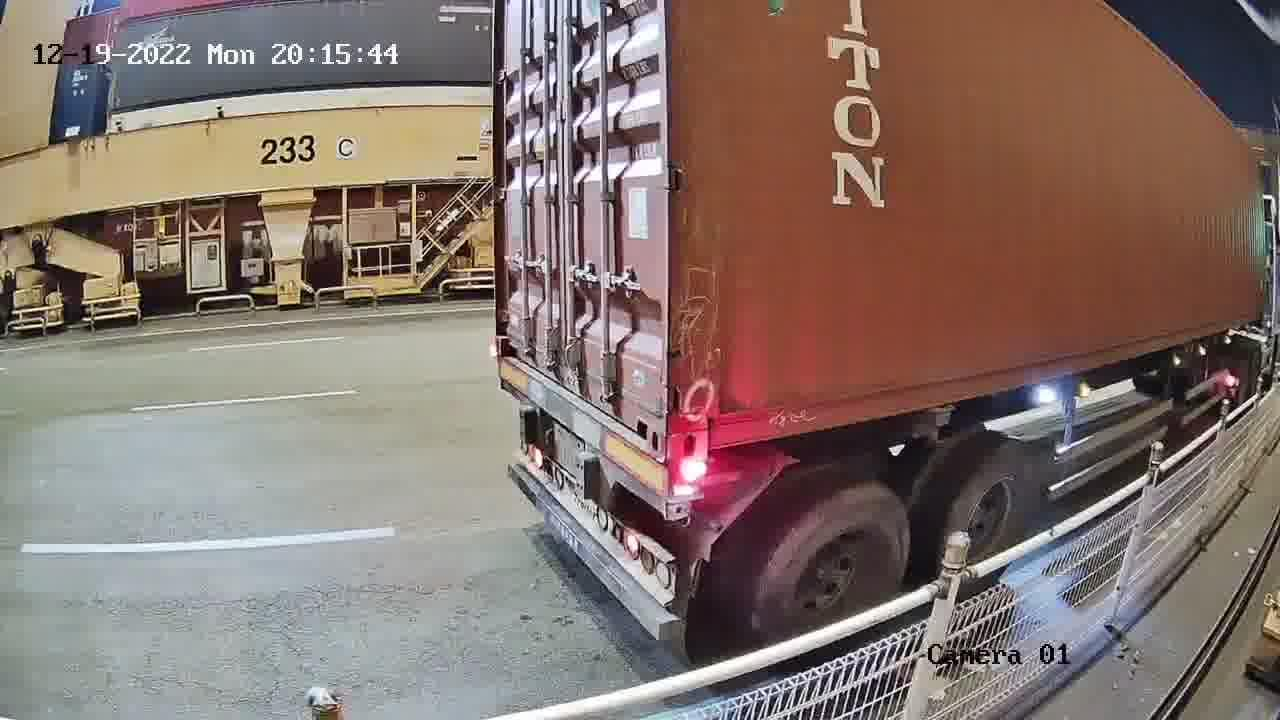Chassis: (501, 358, 668, 514)
Hole_L: (668, 388, 739, 462), (494, 309, 528, 368)
Hole_R: (622, 370, 667, 460)
Tire: (753, 485, 911, 637), (951, 448, 1031, 564)
